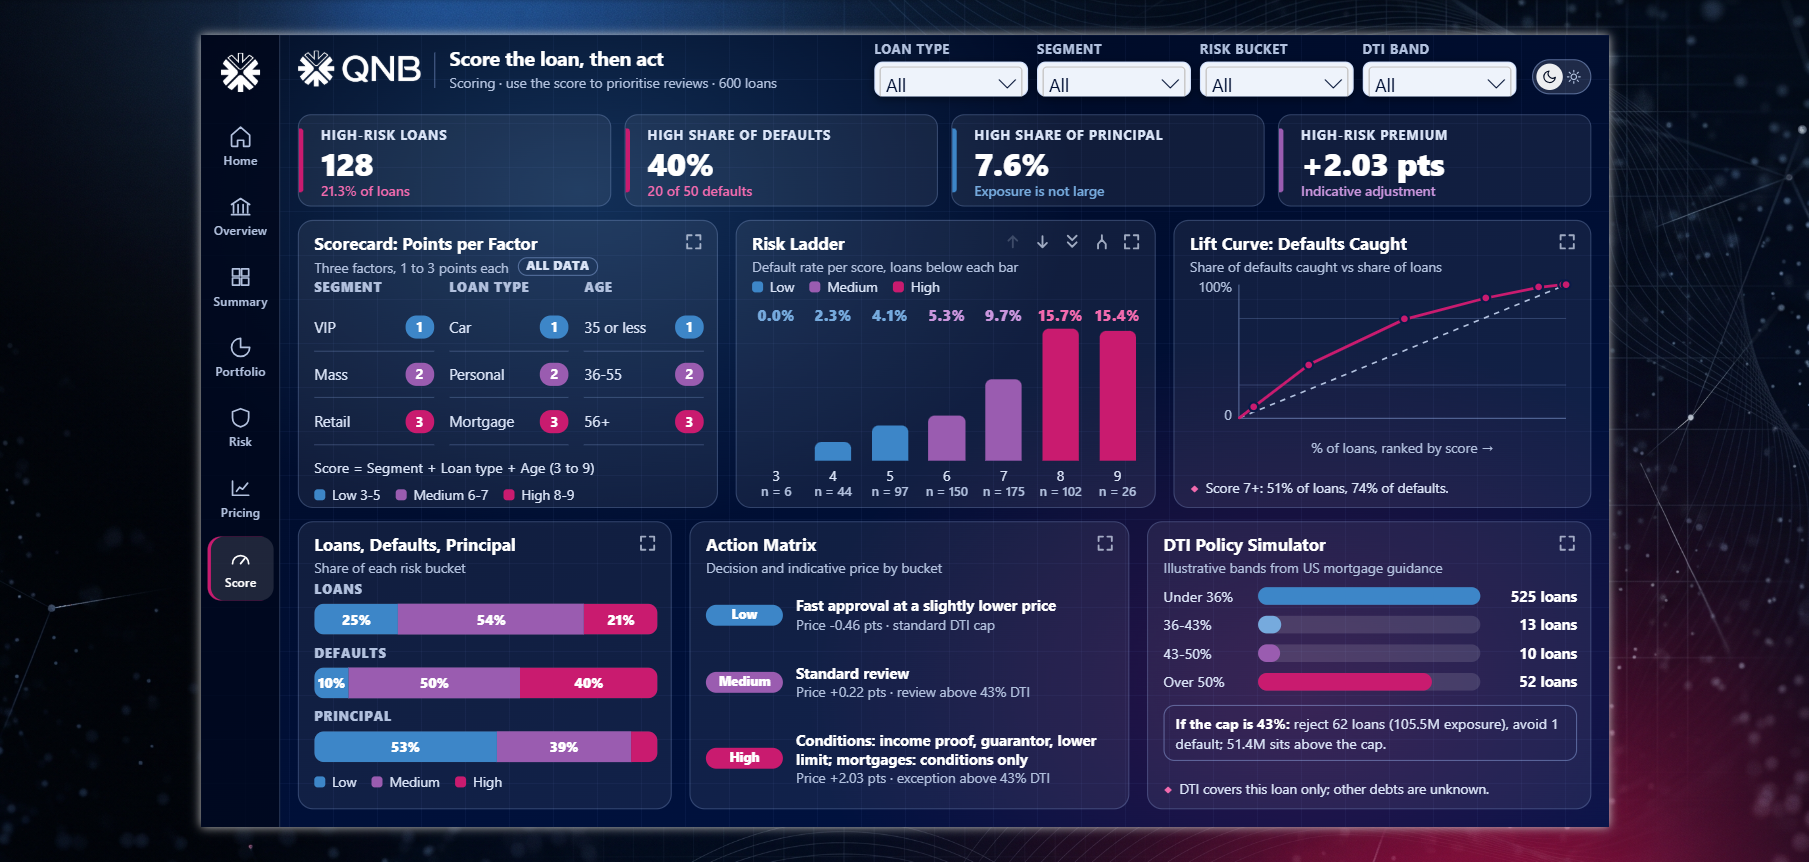

What the dashboard file says about the page in this screenshot:
{"tool":"powerbi","page":{"name":"Score Page","canvas":[1280,720],"ordinal":6},"visuals":[{"type":"htmlContent443BE3AD55E043BF878BED274D3A6855","fields":{"content":["HTML Visuals.page_07_score"]},"box":[0,0,1280,720],"z":0},{"type":"slicer","fields":{"Values":["dim_loan_type.loan_type"]},"box":[612,24,140,32],"z":101},{"type":"slicer","fields":{"Values":["dim_customer.segment"]},"box":[760,24,140,32],"z":102},{"type":"slicer","fields":{"Values":["fact_loan.risk_bucket"]},"box":[908,24,140,32],"z":103},{"type":"slicer","fields":{"Values":["fact_loan.dti_band"]},"box":[1056,24,140,32],"z":104}]}

Visuals, with their boxes on the page's 1280x720 design canvas (x1, y1, x2, y2). These are canvas units, not pixel positions in the 1809x862 screenshot, which may show the page scaled, cropped or inside an application window:
htmlContent443BE3AD55E043BF878BED274D3A6855 - HTML Visuals.page_07_score: l=0, t=0, r=1280, b=720
slicer - dim_loan_type.loan_type: l=612, t=24, r=752, b=56
slicer - dim_customer.segment: l=760, t=24, r=900, b=56
slicer - fact_loan.risk_bucket: l=908, t=24, r=1048, b=56
slicer - fact_loan.dti_band: l=1056, t=24, r=1196, b=56
